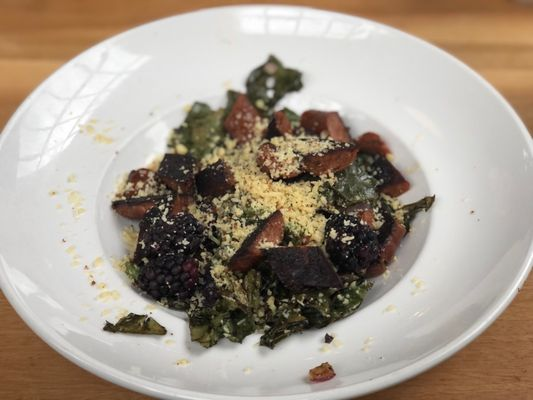curry: (245, 53, 304, 117)
sushi: (8, 2, 532, 398)
